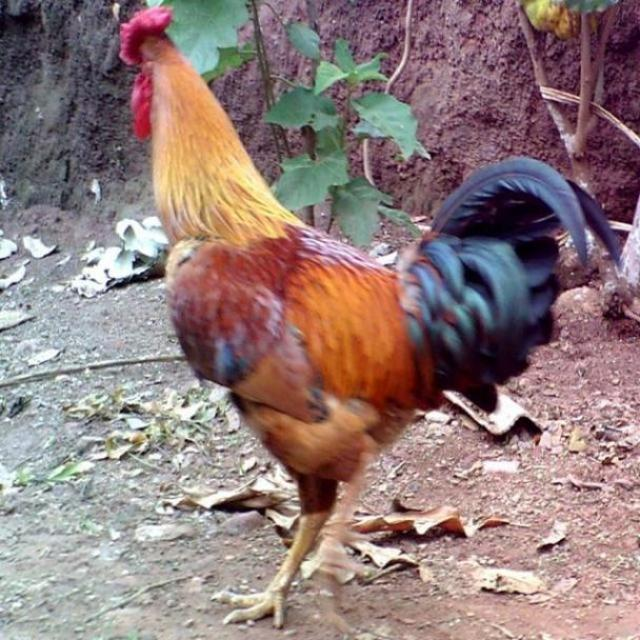Chicken: (116, 1, 625, 627)
